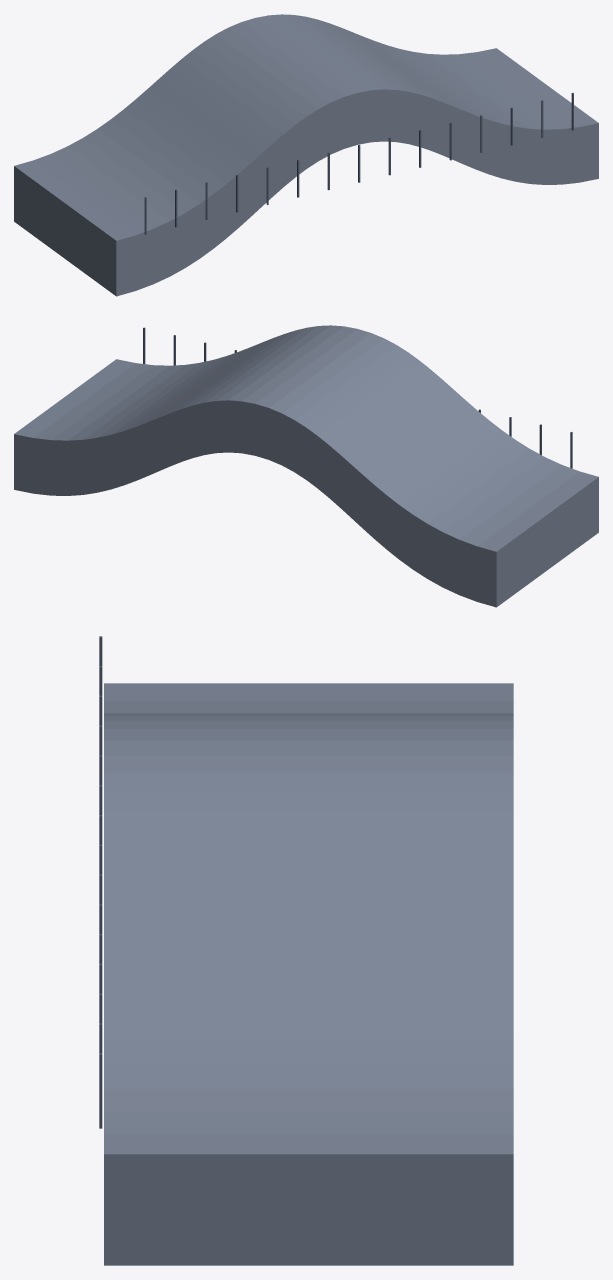
File: cat-scratcher.glb
The picture shows the model from 3 angles, top to bottom: view 1: azimuth 30°, elevation 25°; view 2: azimuth 150°, elevation 25°; view 3: azimuth 270°, elevation 25°; orthographic projection. The views are drawn at different scales.
Parts seen in each view (by area): view 1: body, dark; view 2: body, dark; view 3: body, dark.
Part boxes in pixels (x1,y1,x2,y2): body: [14, 14, 598, 296]; dark: [144, 93, 573, 234]; body: [14, 325, 598, 607]; dark: [143, 327, 572, 468]; body: [104, 683, 513, 1265]; dark: [99, 636, 102, 1128].
Size of the model in its own units: 0.68 by 0.195 by 0.253.
